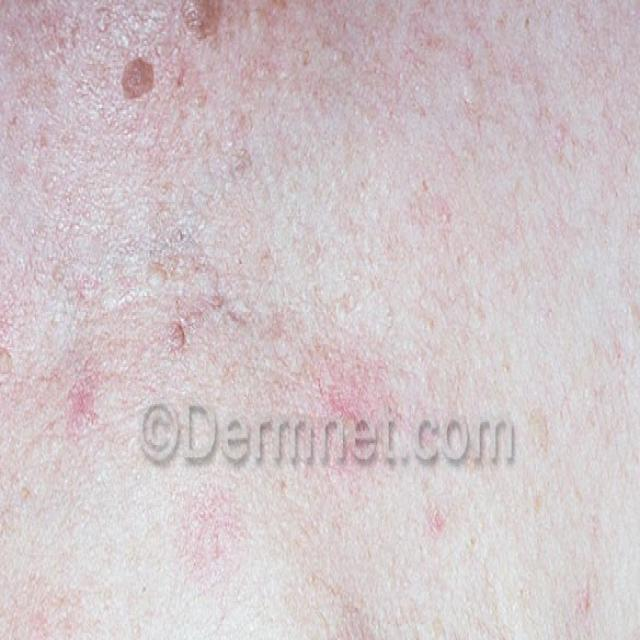Viral Infections: (173, 0, 236, 78), (112, 58, 172, 111)
